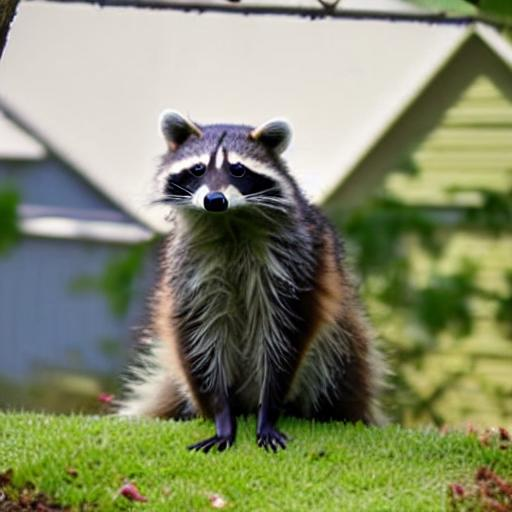raccoon: (137, 98, 384, 419)
